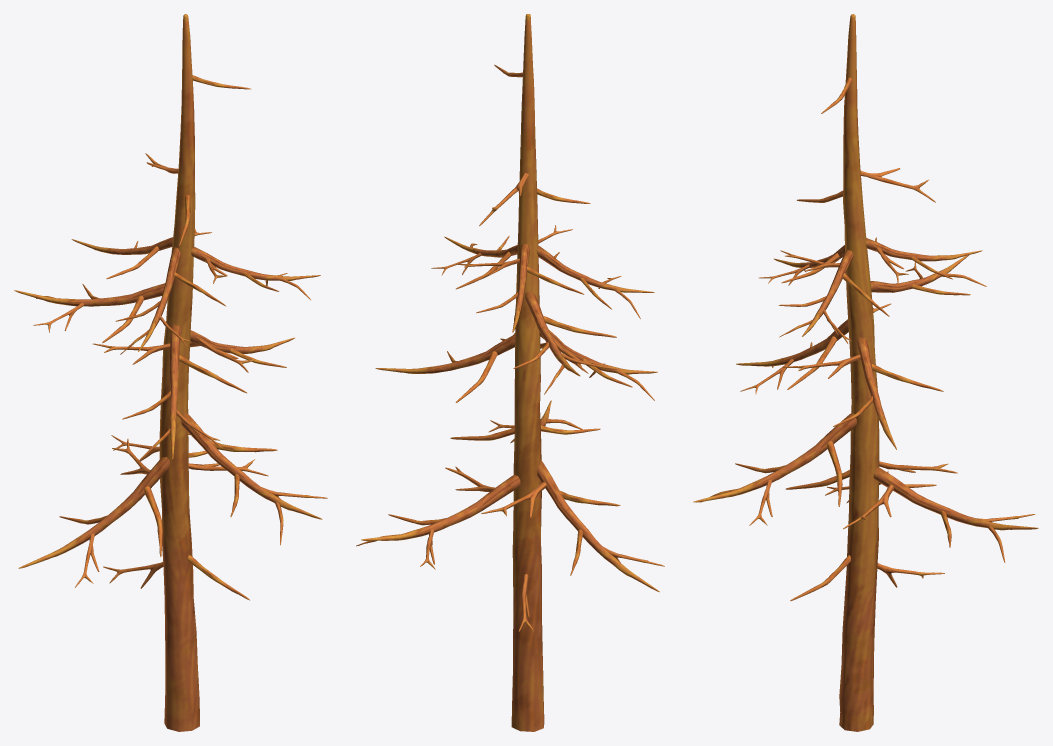
The model's file is small_pine_var4.glb.
3 views of the same model, side by side, from view 1: azimuth 30°, elevation 25°; view 2: azimuth 150°, elevation 25°; view 3: azimuth 270°, elevation 25° (orthographic).
Visible parts, largest first — view 1: small_stylized_pine_var4_m_trunk_0; view 2: small_stylized_pine_var4_m_trunk_0; view 3: small_stylized_pine_var4_m_trunk_0.
Boxes of the visible parts, bbox=[...] form: small_stylized_pine_var4_m_trunk_0: bbox=[14, 14, 327, 731]; small_stylized_pine_var4_m_trunk_0: bbox=[356, 14, 664, 731]; small_stylized_pine_var4_m_trunk_0: bbox=[693, 14, 1038, 731].
Size of the model in its own units: 2.93 by 7.09 by 3.12.
Materials: 1 (1 with a texture image).
